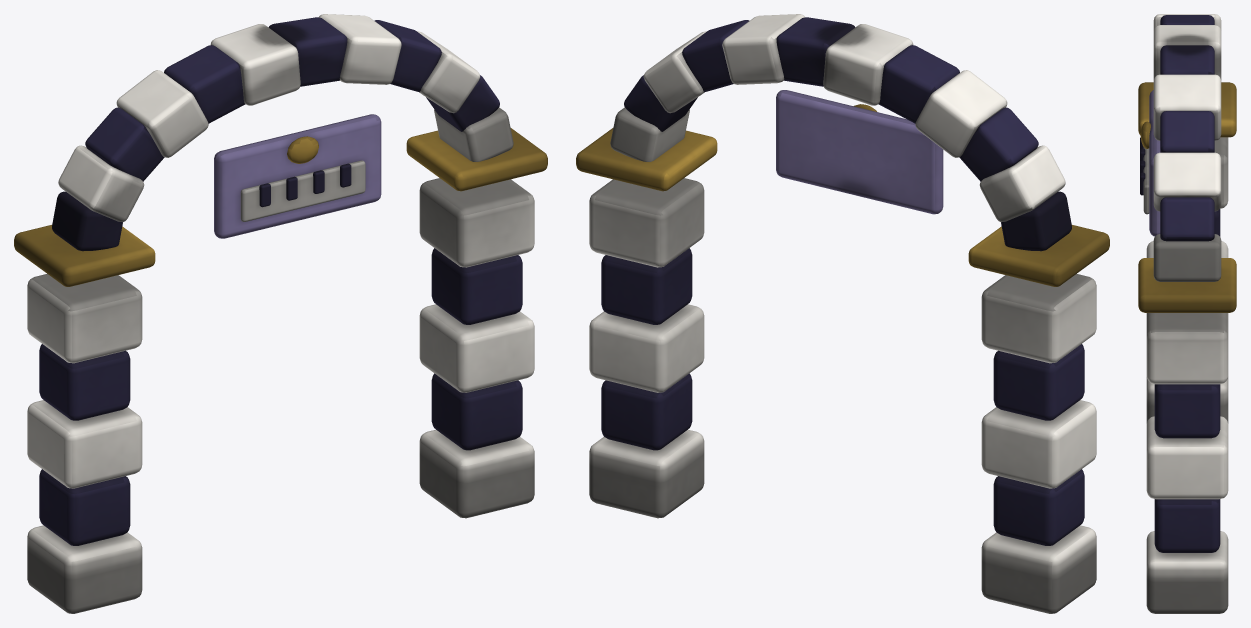
File: GatePiano.fbx
3 views of the same model, side by side, from view 1: azimuth 30°, elevation 25°; view 2: azimuth 150°, elevation 25°; view 3: azimuth 270°, elevation 25° (orthographic). The views are drawn at different scales.
Visible parts, largest first — view 1: GatePiano_Body; view 2: GatePiano_Body; view 3: GatePiano_Body.
Part boxes in pixels (box(x1,y1,x2,y2)): GatePiano_Body: box(14, 14, 547, 613); GatePiano_Body: box(576, 14, 1109, 613); GatePiano_Body: box(1138, 14, 1236, 613).
Size of the model in its own units: 4.7 by 4.73 by 0.9.
